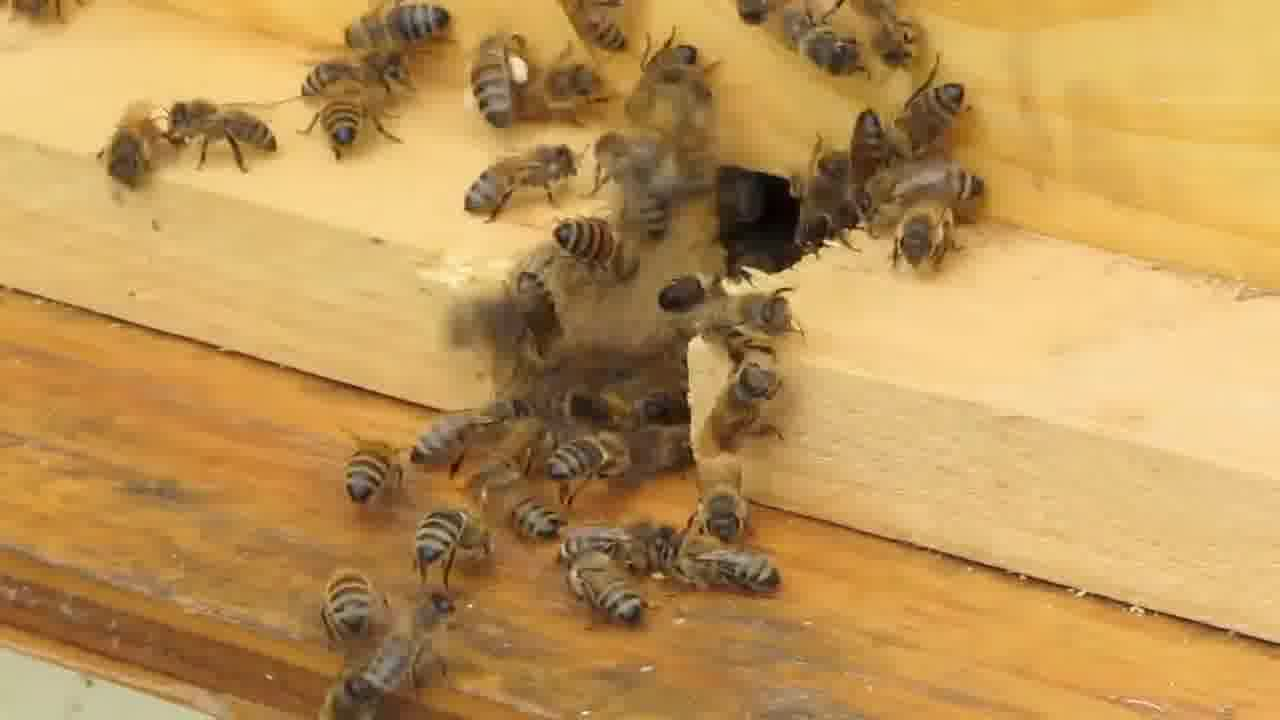pollen: (464, 29, 537, 125)
